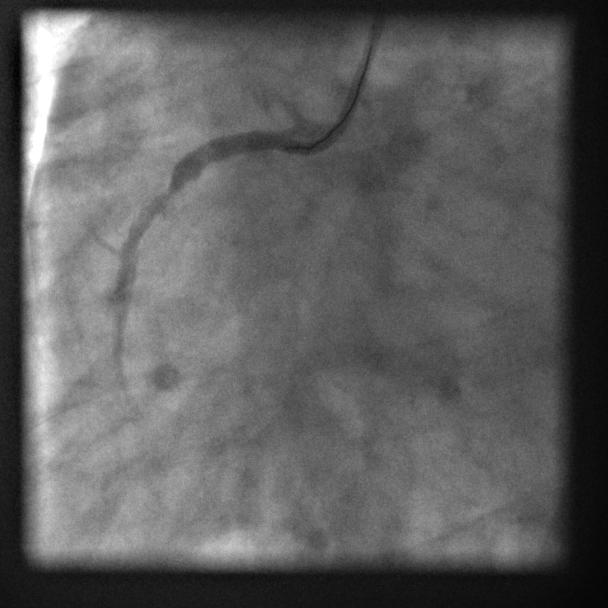Stenosis: (123, 173, 181, 229)
